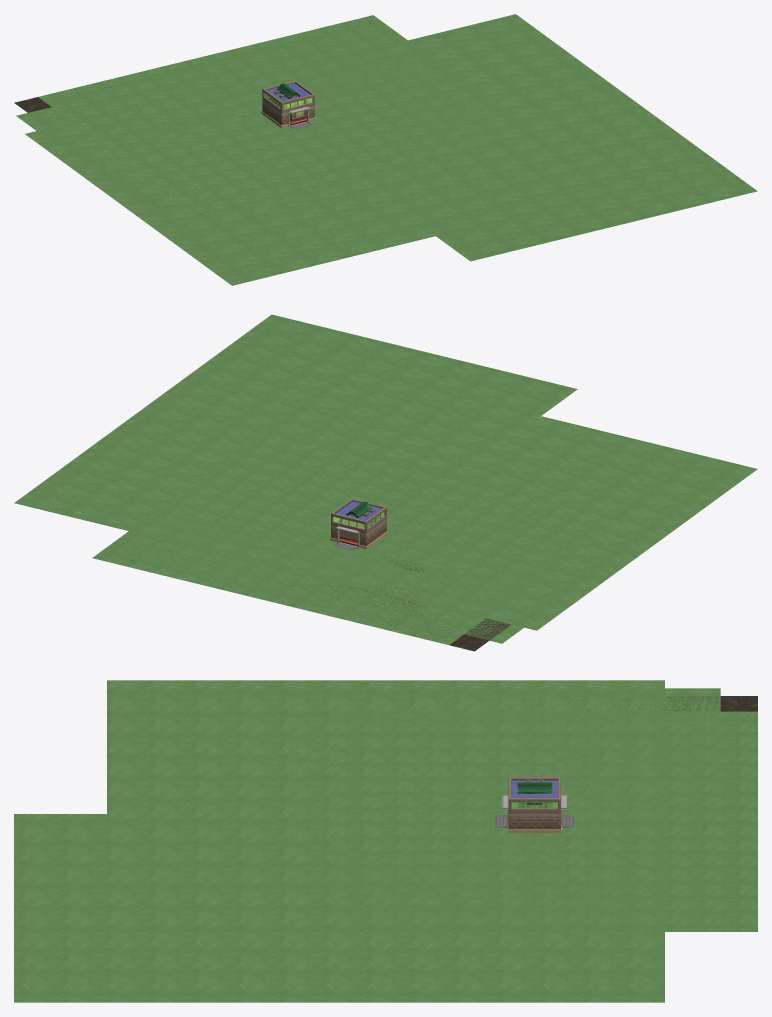
The picture shows the model from 3 angles, top to bottom: view 1: azimuth 30°, elevation 25°; view 2: azimuth 150°, elevation 25°; view 3: azimuth 270°, elevation 25°; orthographic projection. The views are drawn at different scales.
Visible parts, largest first — view 1: lib:senlin_s_floor, lib:senlin_z_floor, lib:senlin_y_floor 1, SM_C_001_BarrierGate_01, SM_T_001_House_01; view 2: lib:senlin_s_floor, lib:senlin_z_floor, lib:senlin_y_floor 1, SM_C_001_BarrierGate_01, lib:senlin_zhongxin_floor 1, SM_T_001_House_01; view 3: lib:senlin_s_floor, lib:senlin_z_floor, lib:senlin_y_floor 1, SM_C_001_BarrierGate_01, lib:senlin_zhongxin_floor 1, SM_T_001_House_01.
Part boxes in pixels (x1=…): lib:senlin_s_floor: x1=25, y1=14, x2=757, y2=285; lib:senlin_z_floor: x1=38, y1=15, x2=531, y2=213; lib:senlin_y_floor 1: x1=16, y1=28, x2=442, y2=241; SM_C_001_BarrierGate_01: x1=261, y1=80, x2=315, y2=129; SM_T_001_House_01: x1=269, y1=83, x2=308, y2=120; lib:senlin_s_floor: x1=14, y1=314, x2=757, y2=630; lib:senlin_z_floor: x1=92, y1=434, x2=617, y2=644; lib:senlin_y_floor 1: x1=122, y1=416, x2=565, y2=643; SM_C_001_BarrierGate_01: x1=330, y1=498, x2=387, y2=550; lib:senlin_zhongxin_floor 1: x1=268, y1=542, x2=600, y2=651; SM_T_001_House_01: x1=337, y1=501, x2=379, y2=541; lib:senlin_s_floor: x1=14, y1=680, x2=664, y2=1002; lib:senlin_z_floor: x1=330, y1=711, x2=757, y2=931; lib:senlin_y_floor 1: x1=258, y1=688, x2=720, y2=923; SM_C_001_BarrierGate_01: x1=495, y1=777, x2=573, y2=833; lib:senlin_zhongxin_floor 1: x1=531, y1=696, x2=757, y2=730; SM_T_001_House_01: x1=517, y1=779, x2=552, y2=807.
Size of what is drawn, in the model's own units: 82 by 5.55 by 80.
Materials: 34 (33 with a texture image).
